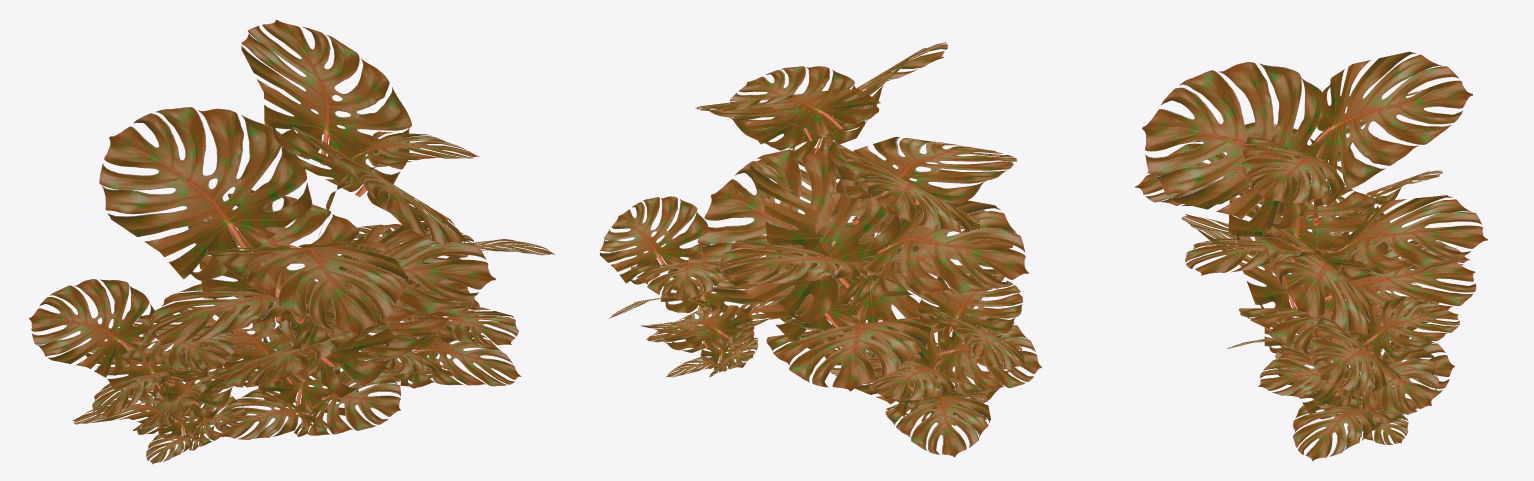
Rendered from plante_1_3.FBX.
3 renders of one model, left to right at view 1: azimuth 30°, elevation 25°; view 2: azimuth 150°, elevation 25°; view 3: azimuth 270°, elevation 25°, orthographic. The views are drawn at different scales.
Visible parts, largest first — view 1: Cylinder010; view 2: Cylinder010; view 3: Cylinder010.
Part boxes in pixels (x1,y1,x2,y2): Cylinder010: (29, 20, 555, 464); Cylinder010: (600, 42, 1041, 457); Cylinder010: (1135, 51, 1487, 461).
Size of the model in its own units: 350 by 248 by 270.
